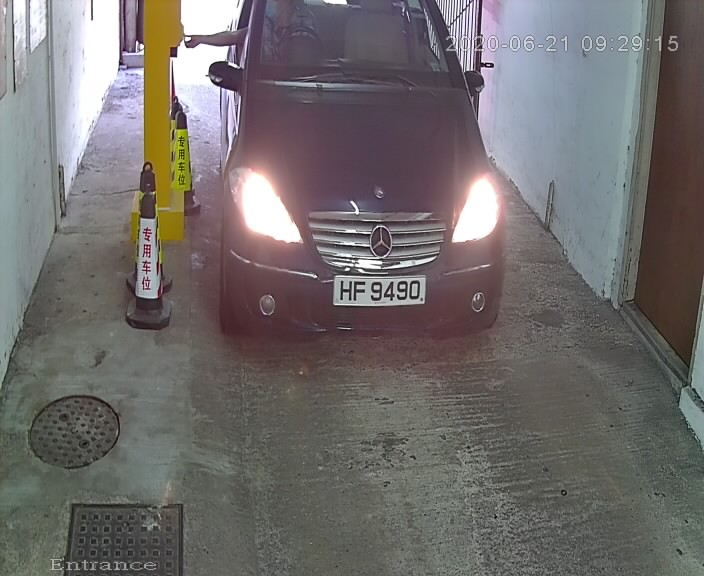privatecar: (193, 1, 513, 342)
